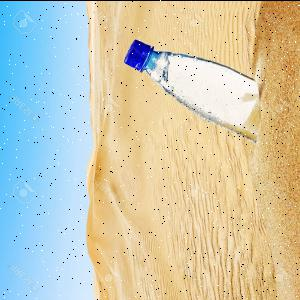Plastic-bottle: (124, 40, 260, 144)
